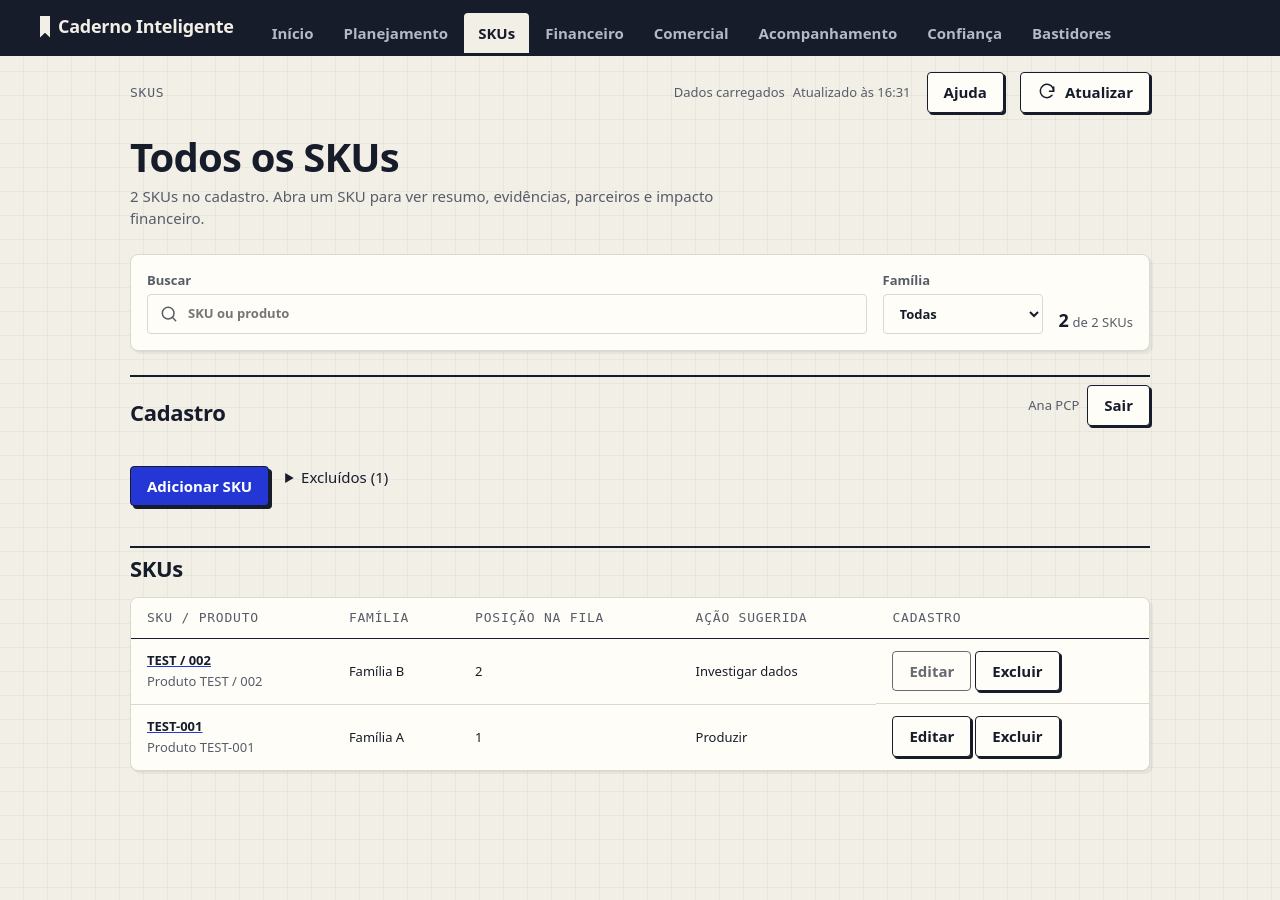
Scenario: cadastro de SKU (fase 3) › cadastra um SKU novo e recarrega a lista
Click the button "Adicionar SKU": (200, 486) [130,466,269,506]
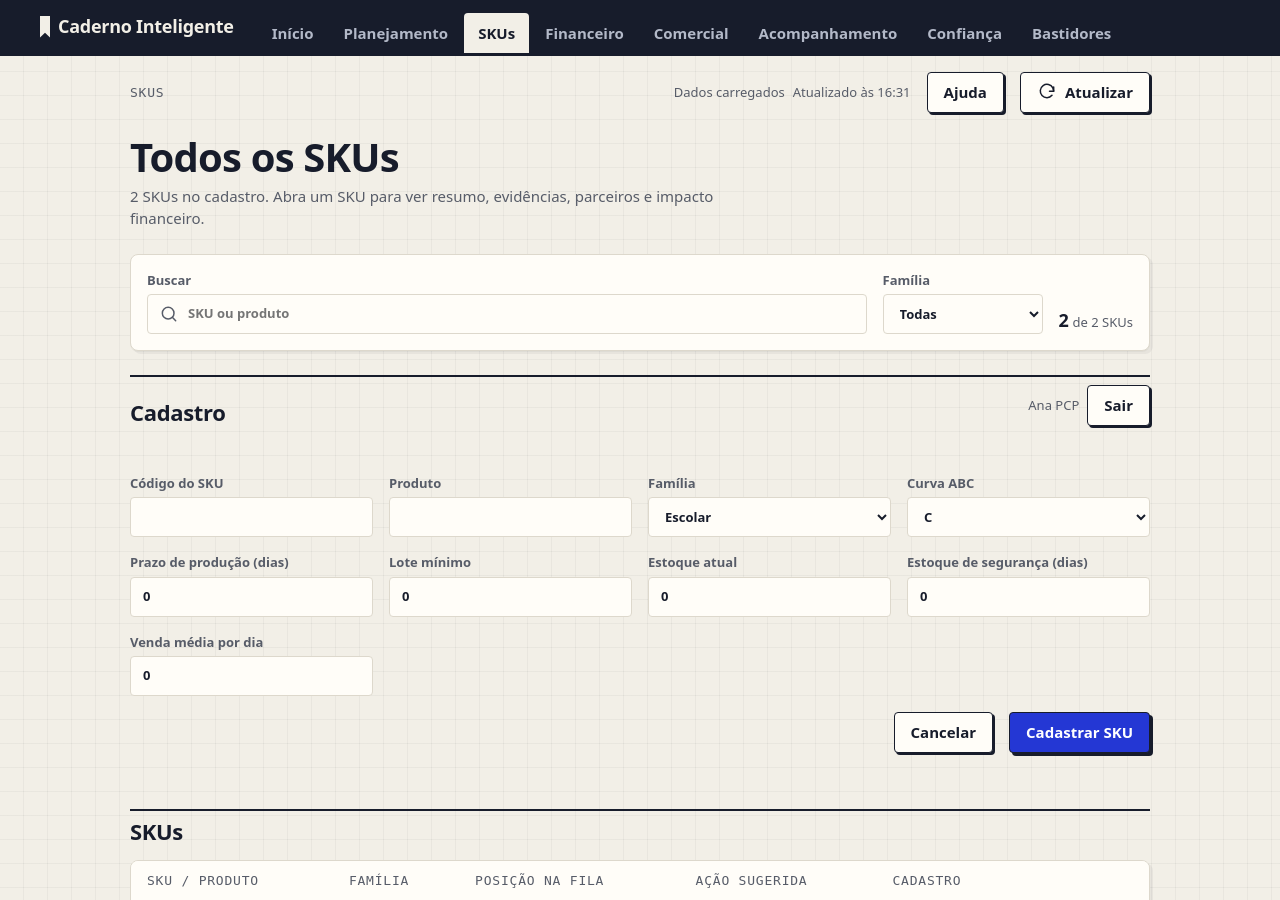
In the field labelled "Código do SKU": (252, 517) [130,497,373,537], type "ci-9001"
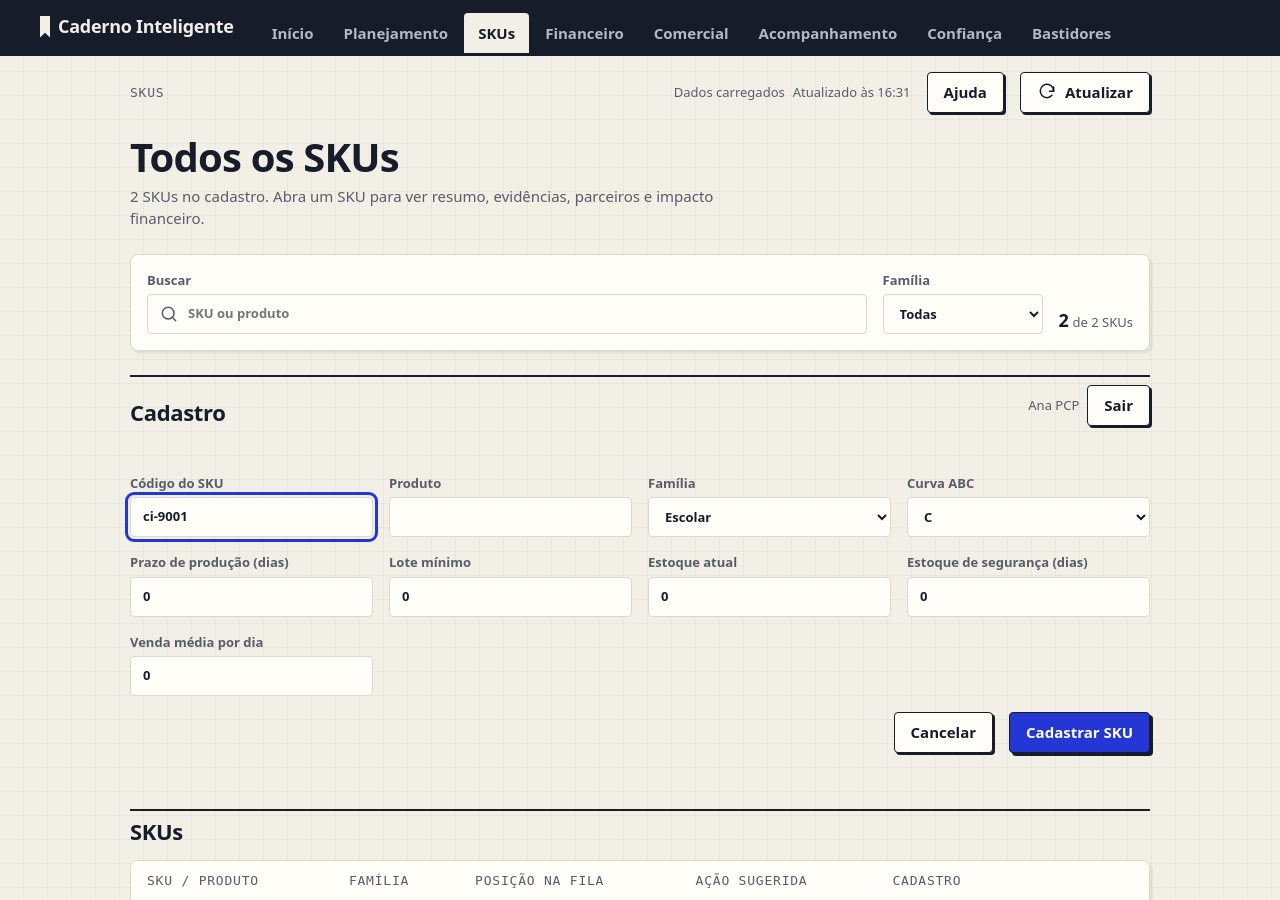
In the field labelled "Produto": (510, 517) [389,497,632,537], type "Caderno Teste"
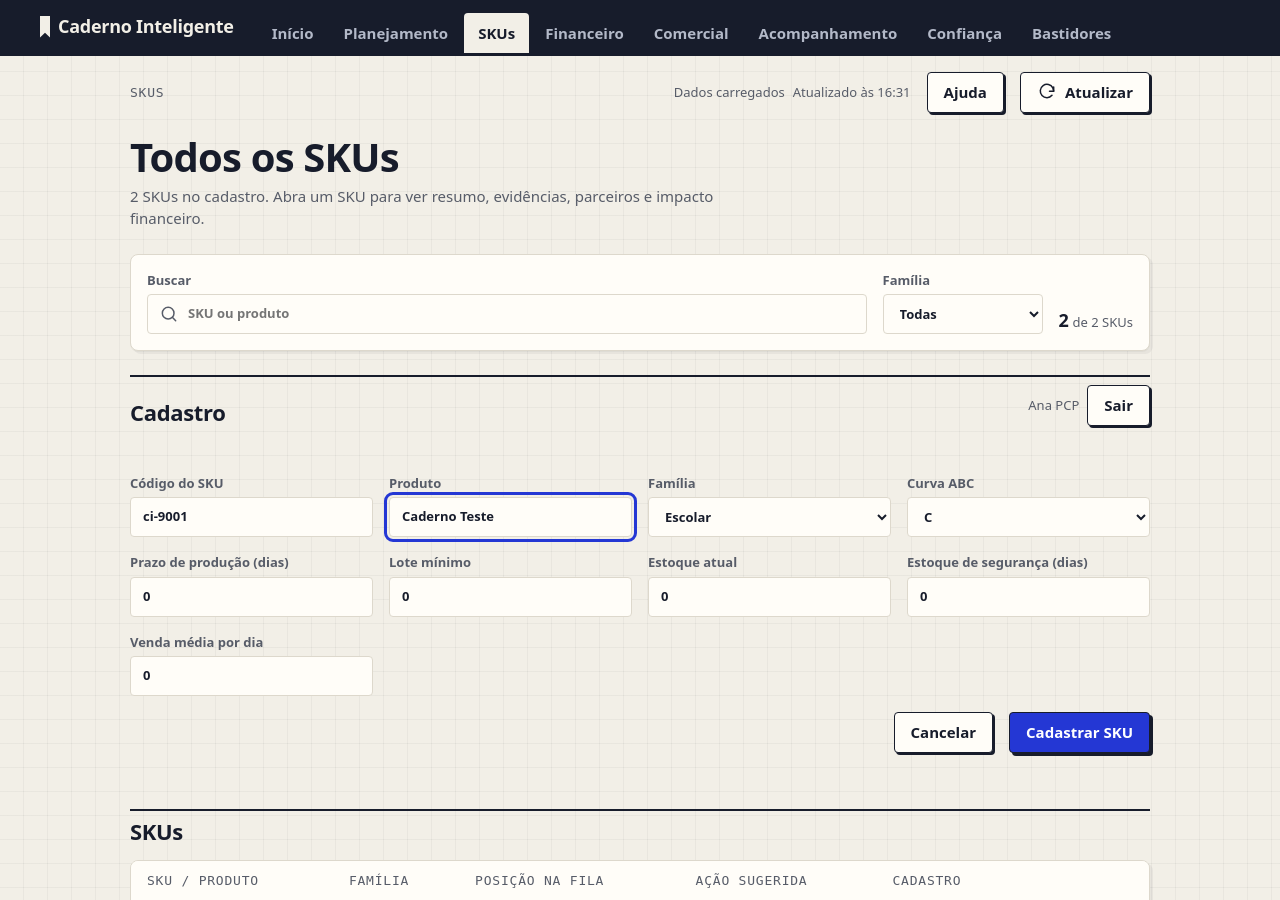
Select "Premium" in the dropdown labelled "Família" below "Curva ABC": (770, 517) [648,497,891,537]
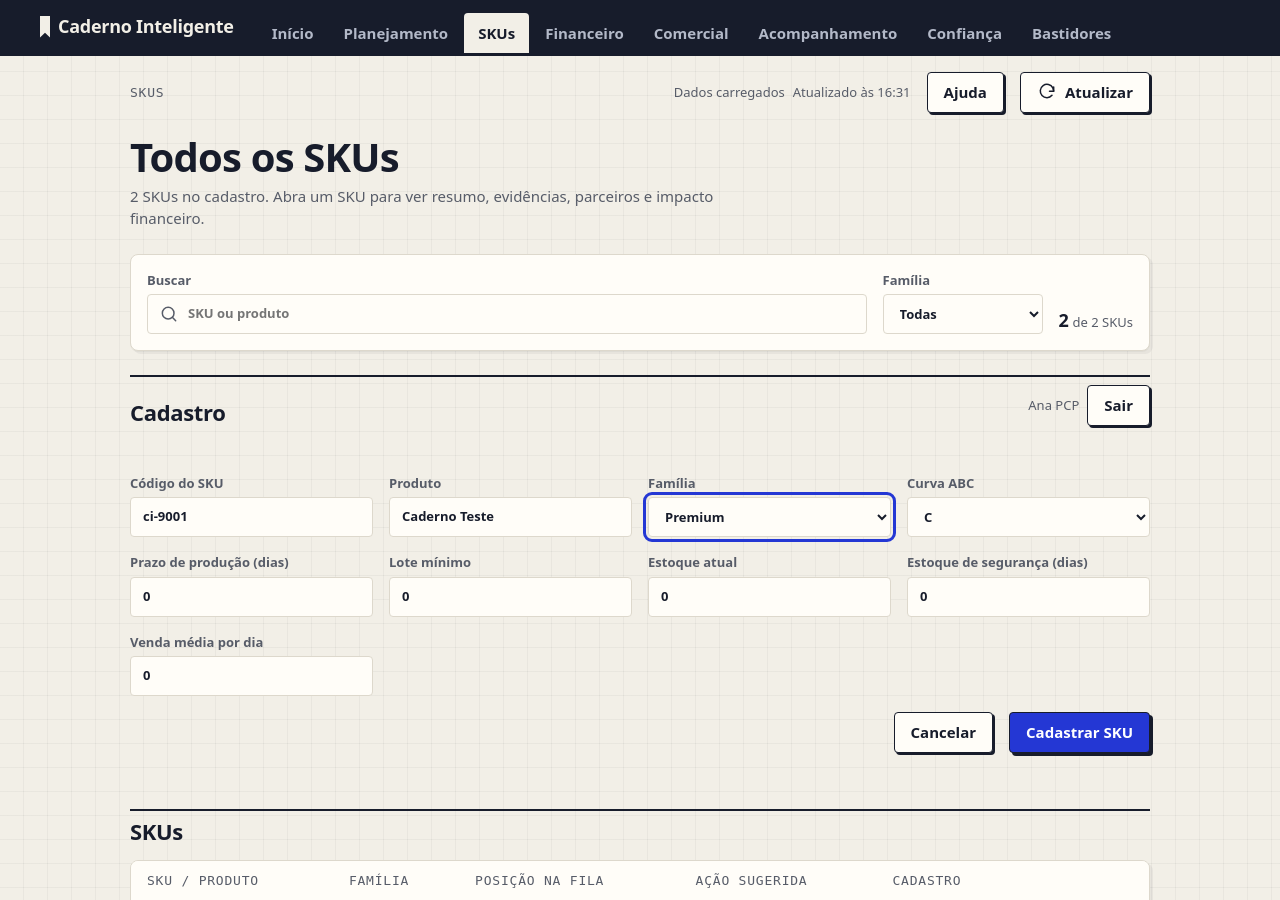
Replace the text in the number field labelled "Estoque atual" with "300": (770, 596) [648,576,891,616]
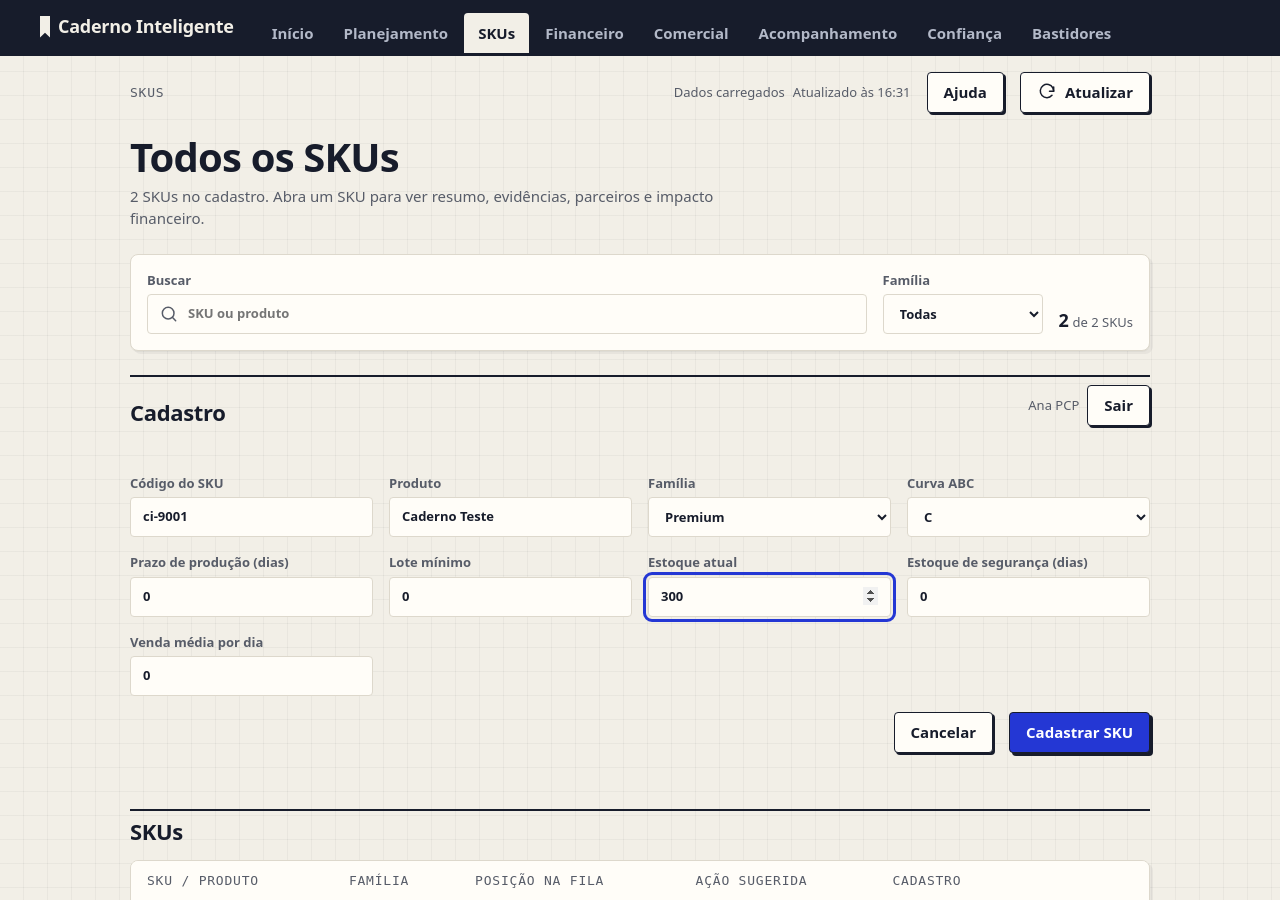
Click the button "Cadastrar SKU": (1080, 732) [1009,712,1150,752]
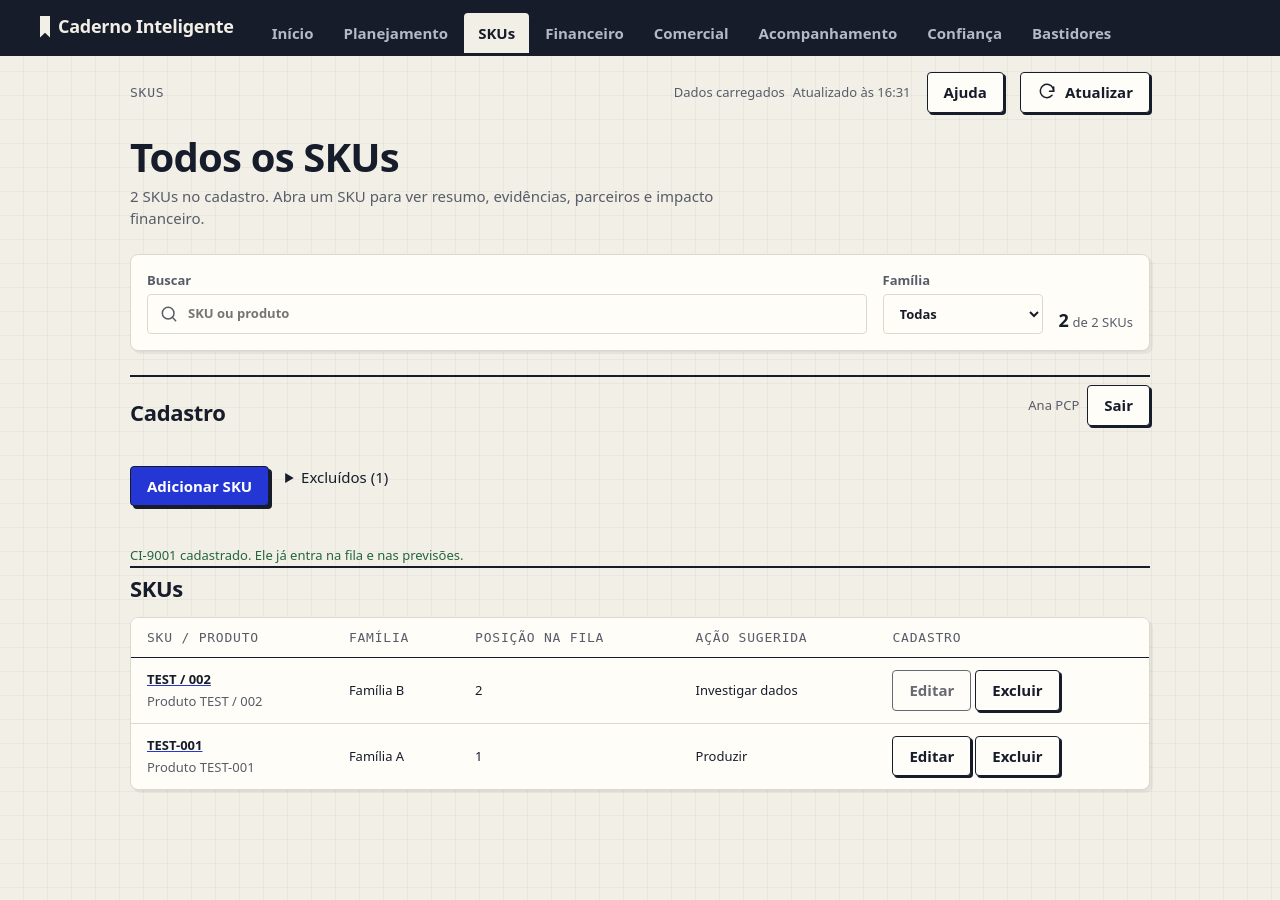
expect the text "CI-9001 cadastrado. Ele já entra na fila e nas previsões." is shown: met, box [130,546,463,564]
